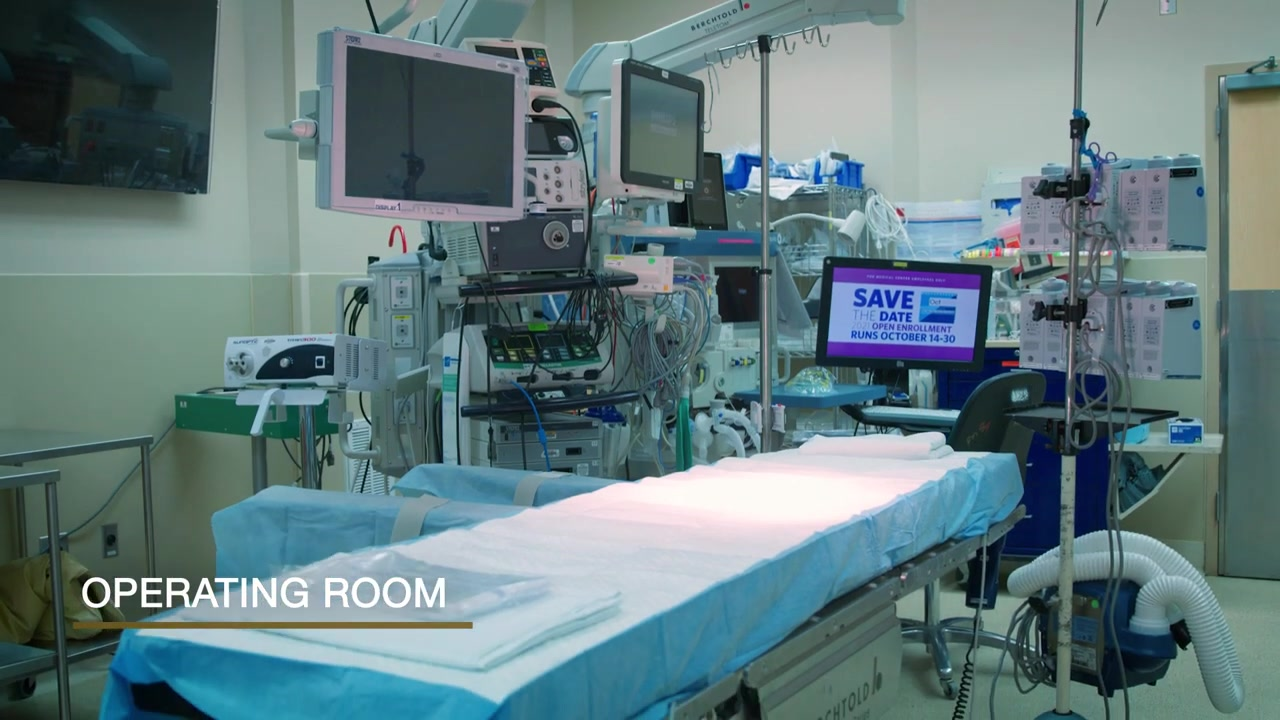TV: (1, 1, 218, 198)
bedside_monitor: (331, 25, 522, 221), (610, 57, 706, 195), (666, 149, 730, 233)
computer: (826, 255, 996, 368)
electrosurgical_unit: (429, 324, 615, 387)
infusion_pump: (1010, 276, 1211, 385), (1015, 155, 1211, 260)
iv_pole: (715, 24, 831, 456), (1037, 1, 1092, 720)
operating_bed: (101, 437, 1025, 720)
table: (1, 422, 162, 720)
